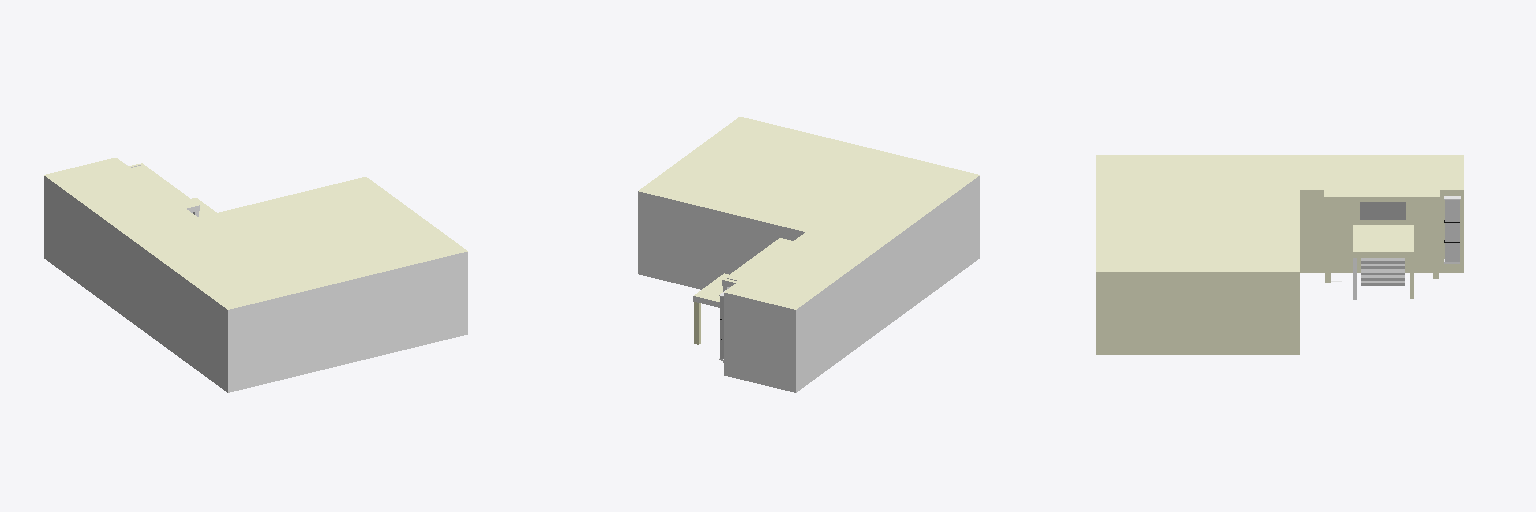
File: campus.obj
3 views of the same model, side by side, from view 1: azimuth 30°, elevation 25°; view 2: azimuth 150°, elevation 25°; view 3: azimuth 270°, elevation 25° (orthographic).
Visible parts, largest first — view 1: Mesh1 Model; view 2: Mesh1 Model; view 3: Mesh1 Model.
Boxes of the visible parts, <box> form: Mesh1 Model: <box>44,158,467,392</box>; Mesh1 Model: <box>638,117,979,392</box>; Mesh1 Model: <box>1096,155,1463,354</box>.
Size of the model in its own units: 252110 by 87445 by 334871.